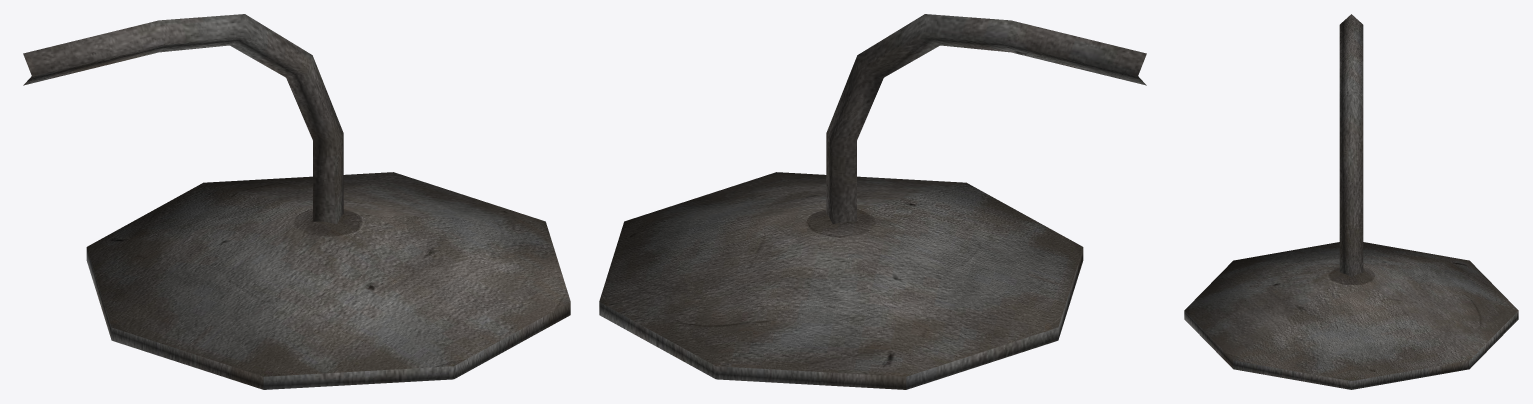
Rendered from miniLampPost_low.glb.
3 renders of one model, left to right at view 1: azimuth 30°, elevation 25°; view 2: azimuth 150°, elevation 25°; view 3: azimuth 270°, elevation 25°, orthographic. The views are drawn at different scales.
Visible parts, largest first — view 1: metal_rusted_circle.jpg__; view 2: metal_rusted_circle.jpg__; view 3: metal_rusted_circle.jpg__.
Boxes of the visible parts, x1,y1,x2,y2 form: metal_rusted_circle.jpg__: [23, 14, 570, 389]; metal_rusted_circle.jpg__: [599, 14, 1146, 389]; metal_rusted_circle.jpg__: [1184, 14, 1518, 389].
Size of the model in its own units: 2.97 by 2.12 by 2.46.
Materials: 3 (3 with a texture image).
